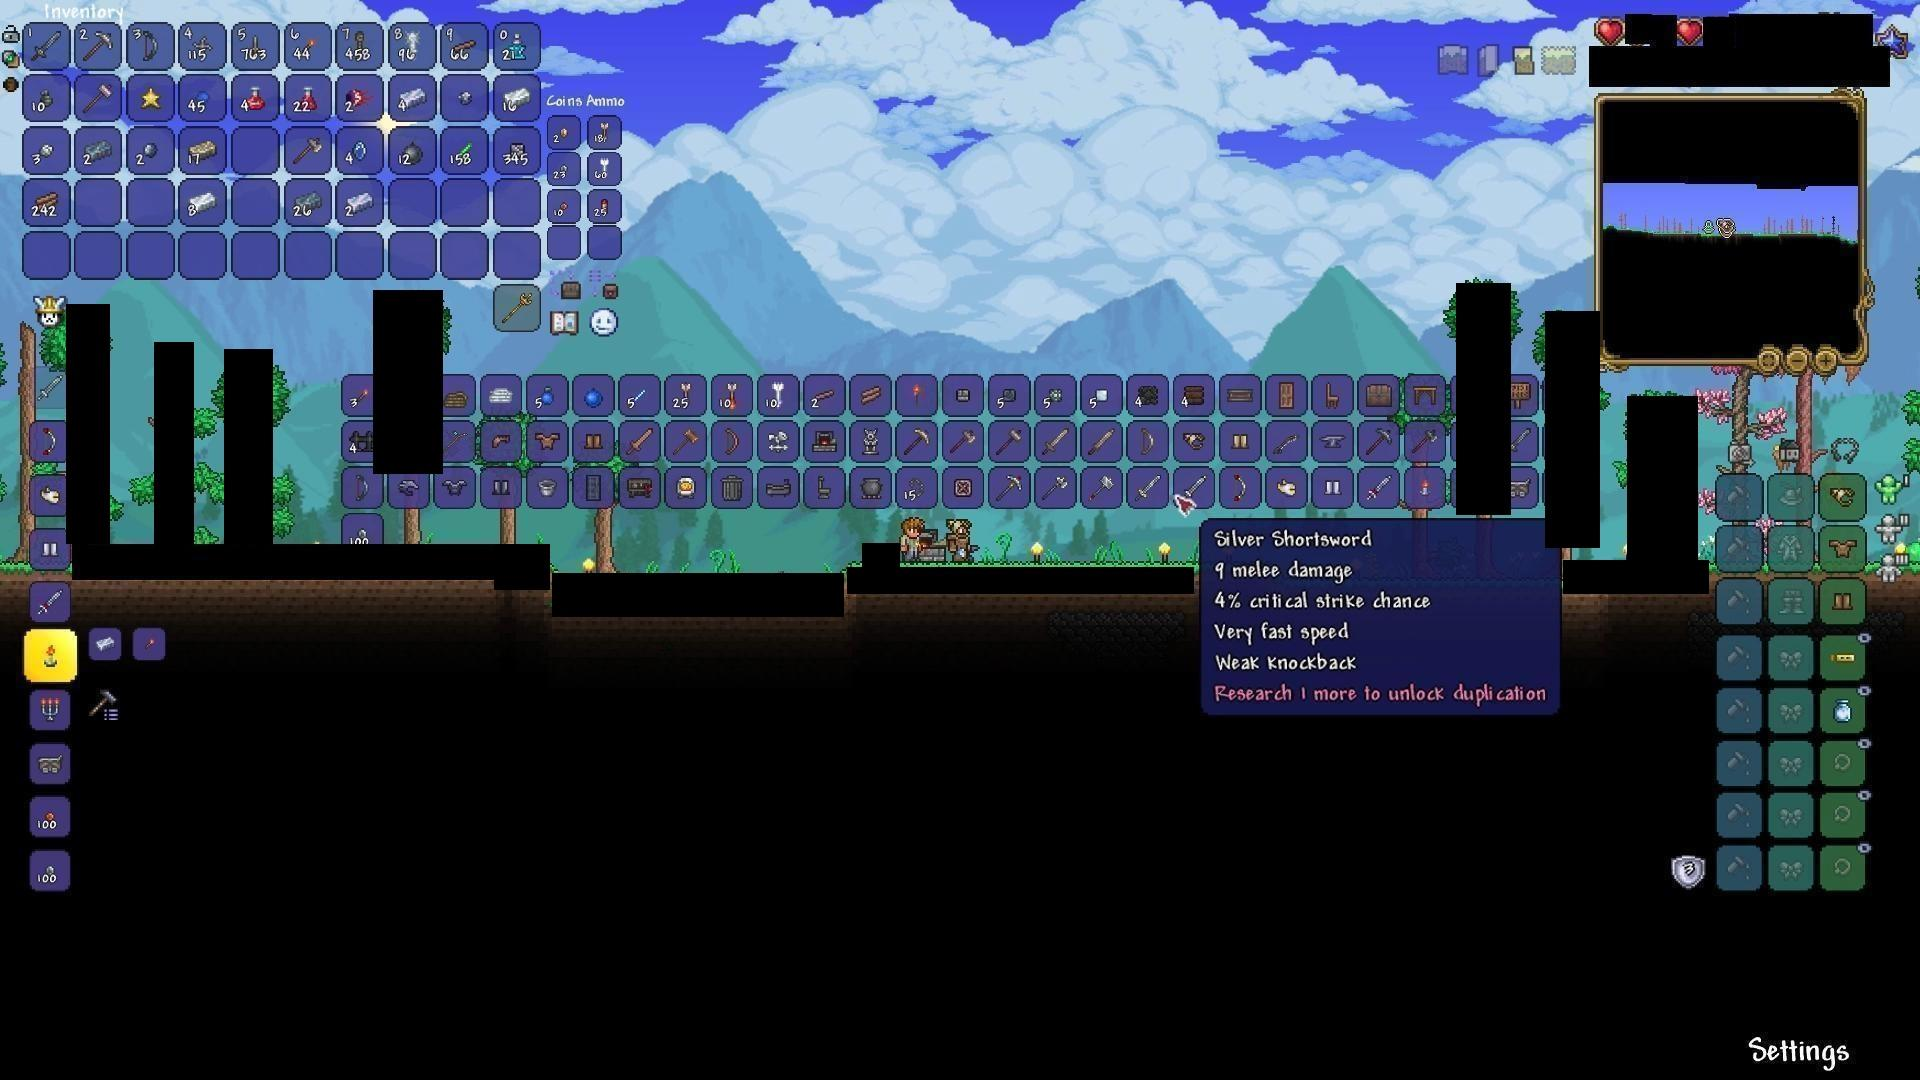breastplate: (530, 431, 559, 452), (439, 476, 468, 497), (1829, 538, 1858, 559)
dirt: (0, 563, 30, 595)
heart: (1593, 16, 1626, 46), (1676, 15, 1704, 50)
helmet: (487, 429, 510, 454)
legs: (37, 538, 63, 566), (1830, 589, 1857, 615), (582, 431, 605, 458), (489, 475, 512, 501), (1324, 473, 1346, 498)
tree: (3, 313, 32, 562)
wood: (32, 189, 61, 218), (858, 381, 887, 407)
